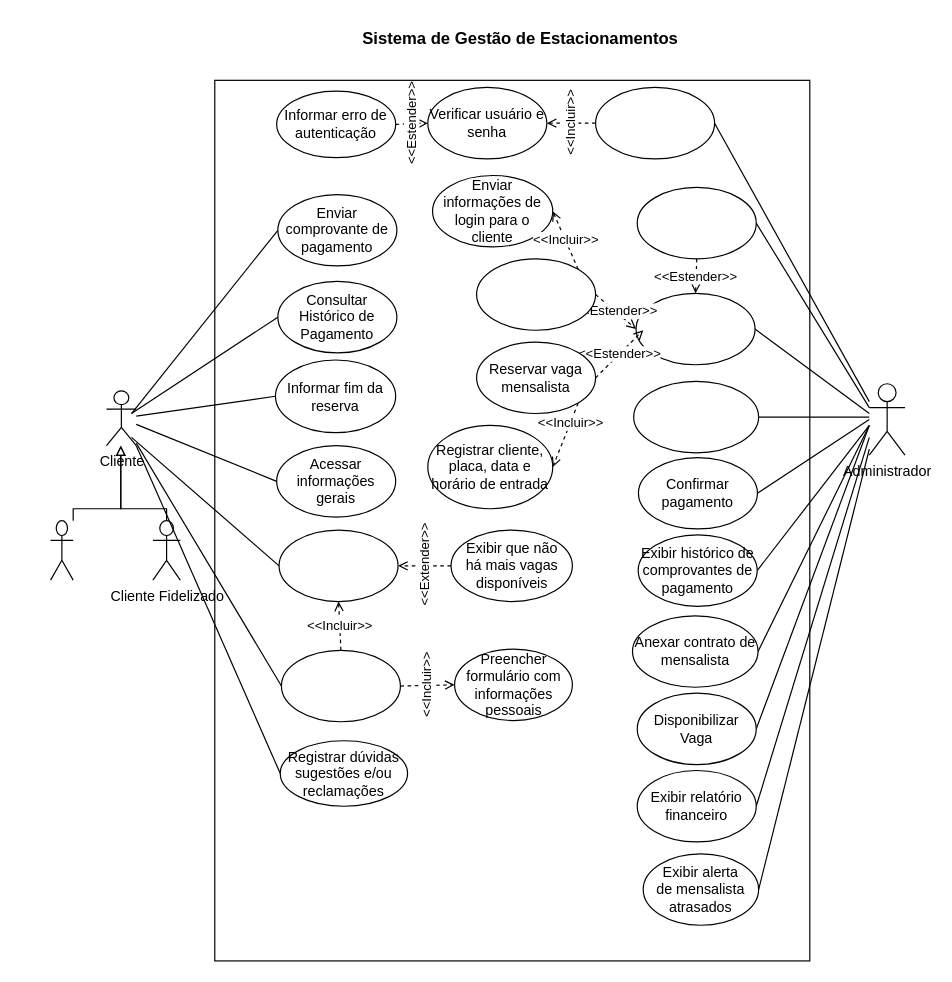
The diagram is 952 pixels wide and 982 high, and some of its shapes have lost their labels. The shapes that lost their labels are listed below. From the top down, each one's centre as x and y in pixels, then its label:
At (654,122): "Fazer Login".
At (696,222): "Cadastrar Cliente".
At (535,294): "Reservar vaga temporária".
At (695,328): "Reservar Vaga".
At (695,416): "Acessar solicitações de reserva".
At (61,549): "Cliente Novo".
At (338,565): "Verificar se há vagas".
At (340,685): "Solicitar a reserva mensal da vaga".
